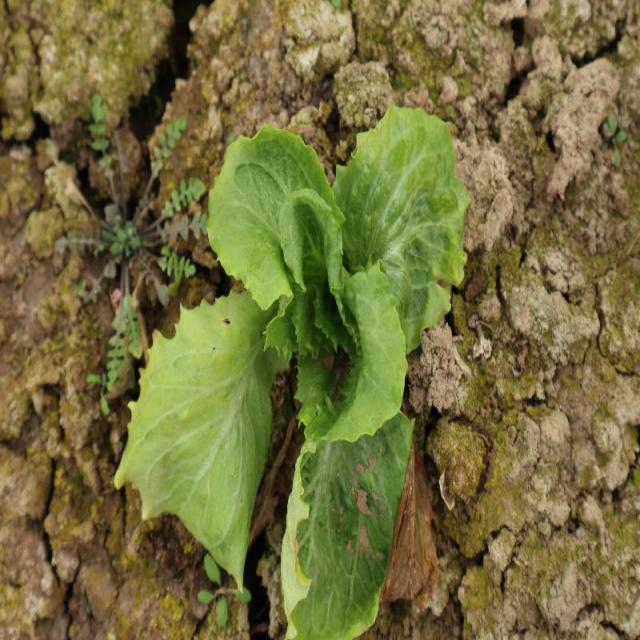crop: (116, 108, 468, 640)
